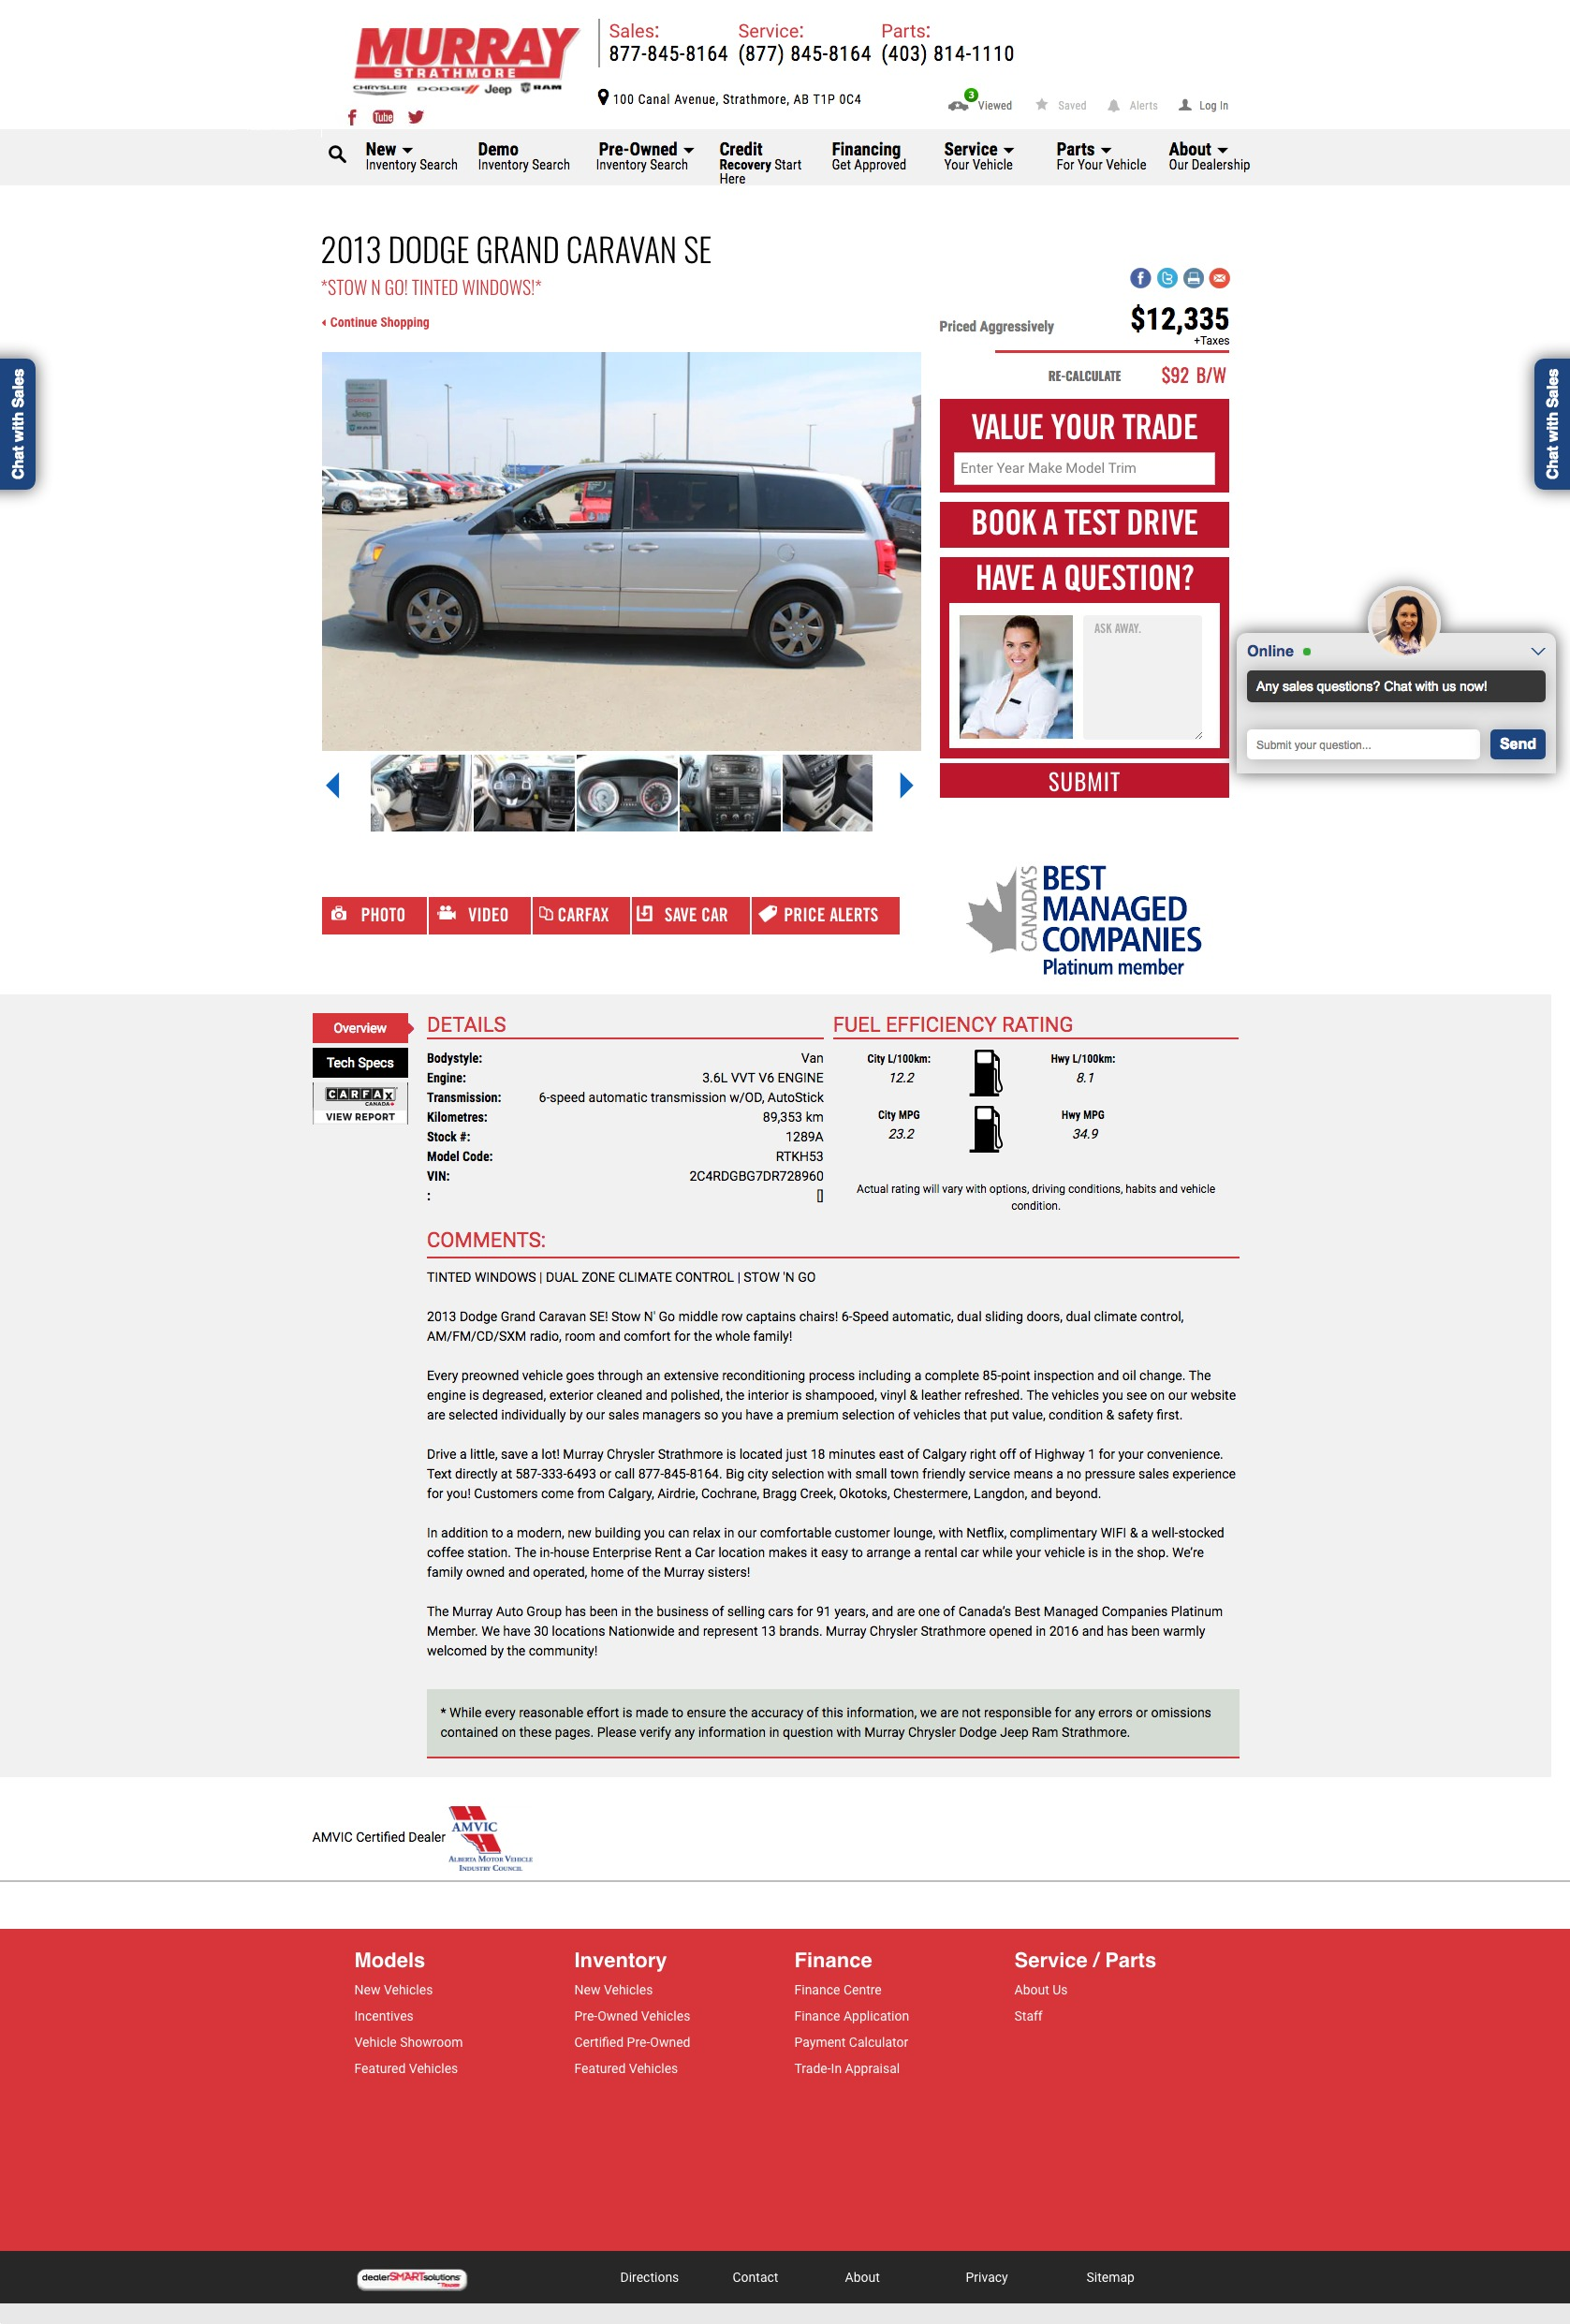car: (899, 773, 916, 799)
